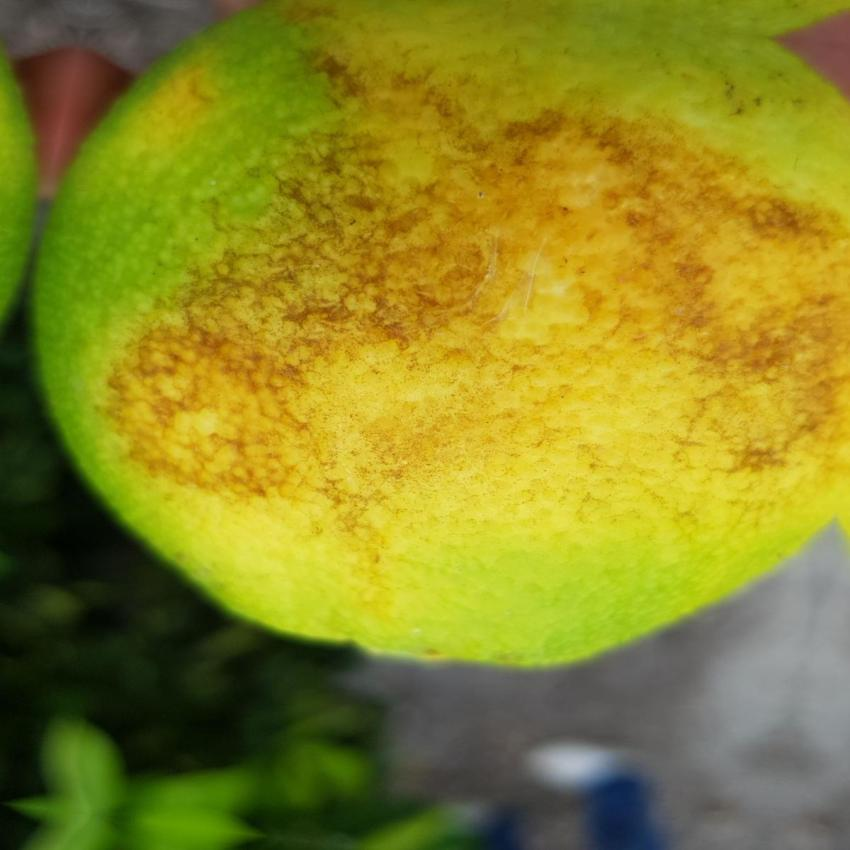Mal estado: (26, 0, 845, 703)
